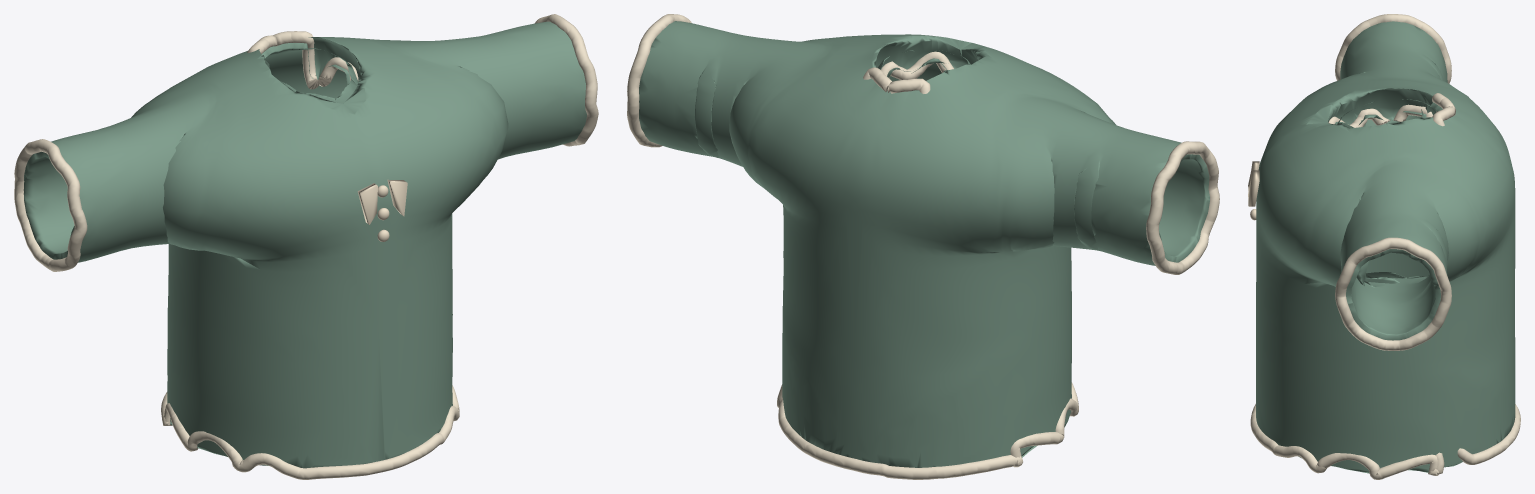
Rendered from 4HT-masculino.glb.
The picture shows the model from 3 angles, left to right: view 1: azimuth 30°, elevation 25°; view 2: azimuth 150°, elevation 25°; view 3: azimuth 270°, elevation 25°; orthographic projection. The views are drawn at different scales.
Parts seen in each view (by area): view 1: fitted-shell, bound-edge (×4); view 2: fitted-shell, bound-edge (×4); view 3: fitted-shell, bound-edge (×4), collar-1.
Part boxes in pixels (x1=…): fitted-shell: x1=23, y1=21, x2=586, y2=468; bound-edge (×4): x1=14, y1=14, x2=598, y2=479; fitted-shell: x1=639, y1=21, x2=1209, y2=467; bound-edge (×4): x1=627, y1=14, x2=1219, y2=479; fitted-shell: x1=1256, y1=21, x2=1515, y2=473; bound-edge (×4): x1=1250, y1=14, x2=1520, y2=479; collar-1: x1=1248, y1=170, x2=1259, y2=206.
Bounding box in the file's own units: 0.0632 × 0.0412 × 0.0315.
